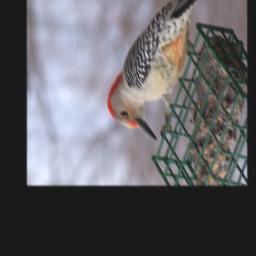Woodpecker: (107, 0, 204, 139)
